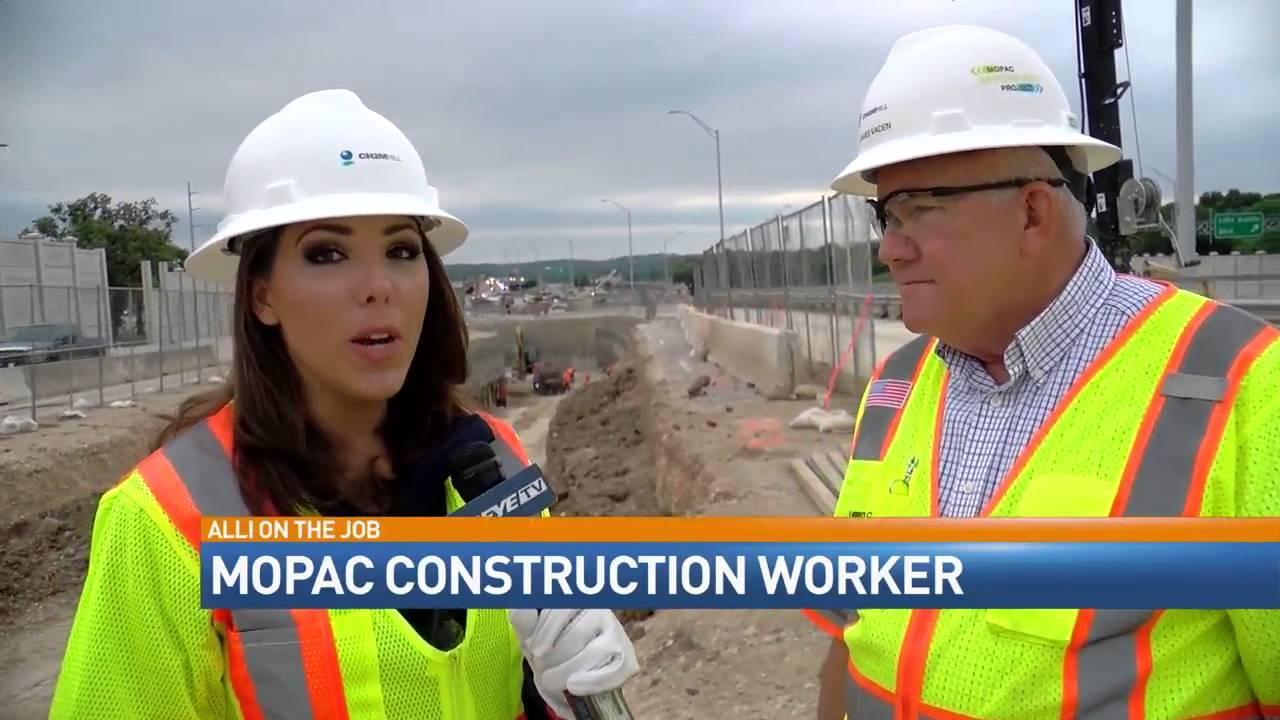helmet: (184, 88, 465, 274), (823, 23, 1117, 192)
